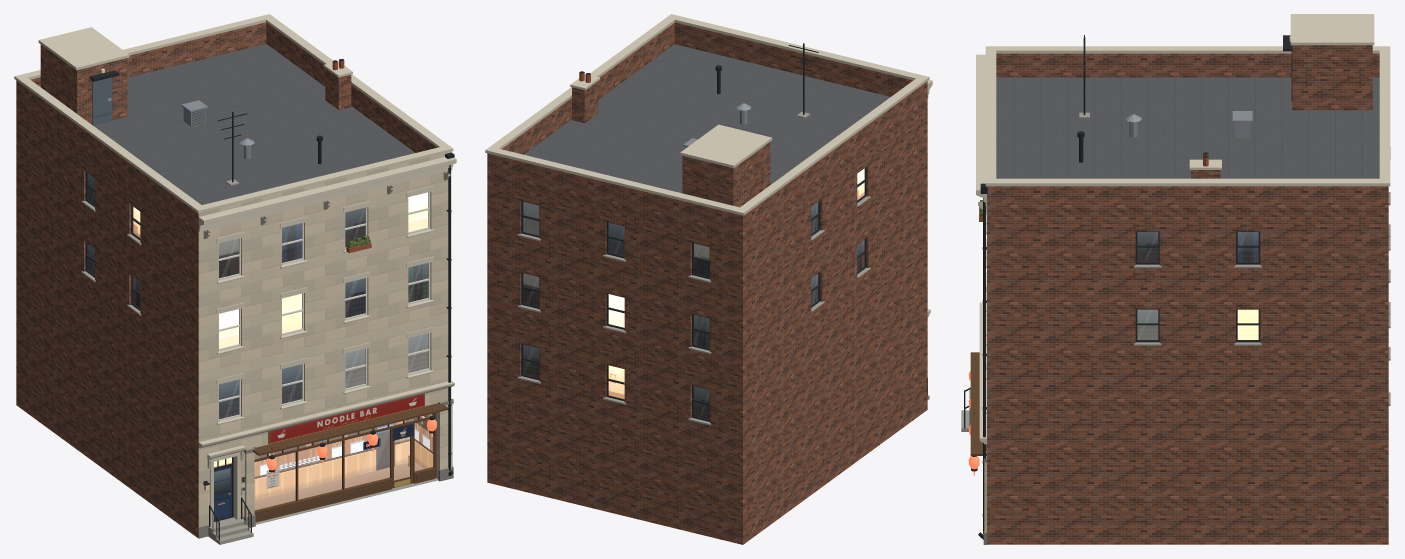
File: NoodleBar.fbx
3 renders of one model, left to right at view 1: azimuth 30°, elevation 25°; view 2: azimuth 150°, elevation 25°; view 3: azimuth 270°, elevation 25°, orthographic. The views are drawn at different scales.
Visible parts, largest first — view 1: NoodleBar_Mesh; view 2: NoodleBar_Mesh; view 3: NoodleBar_Mesh.
Part boxes in pixels (box(x1,y1,x2,y2)): NoodleBar_Mesh: box(14, 14, 456, 544); NoodleBar_Mesh: box(485, 14, 932, 544); NoodleBar_Mesh: box(961, 14, 1390, 544).
Bounding box in the file's own units: 12.14 × 17.03 × 16.03.
